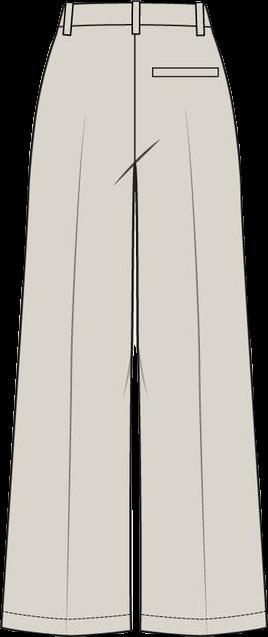Hemline: (0, 621, 133, 636), (137, 623, 266, 636)
Pantleg: (133, 1, 264, 635), (3, 2, 134, 634)
Waistline: (58, 21, 211, 33), (60, 0, 206, 12)
